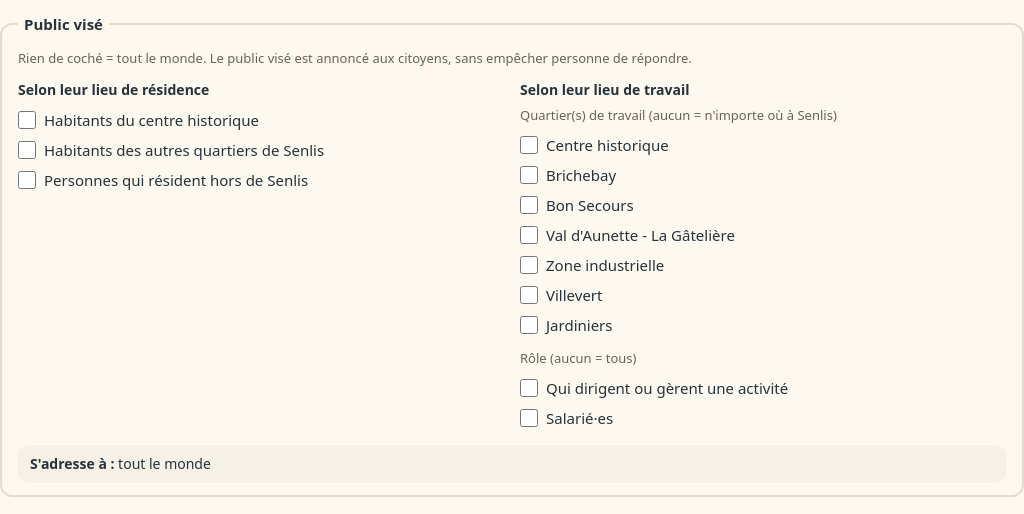
AudiencePicker › rien de coché : « tout le monde » ; la synthèse suit chaque case cochée
Click the checkbox labelled "Habitants du centre historique": (27, 120) left=18, top=111, right=36, bottom=129
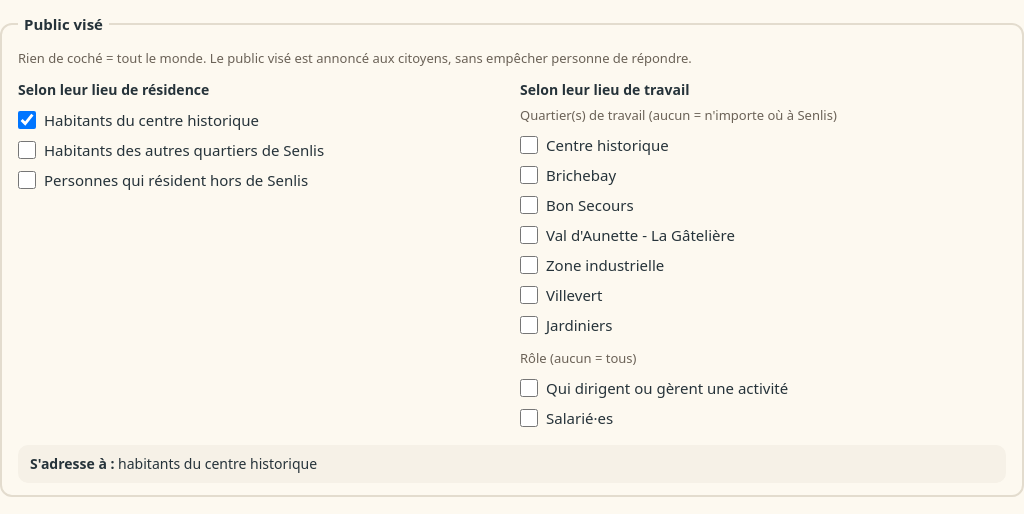
Click the checkbox labelled "Centre historique": (529, 145) left=520, top=136, right=538, bottom=154
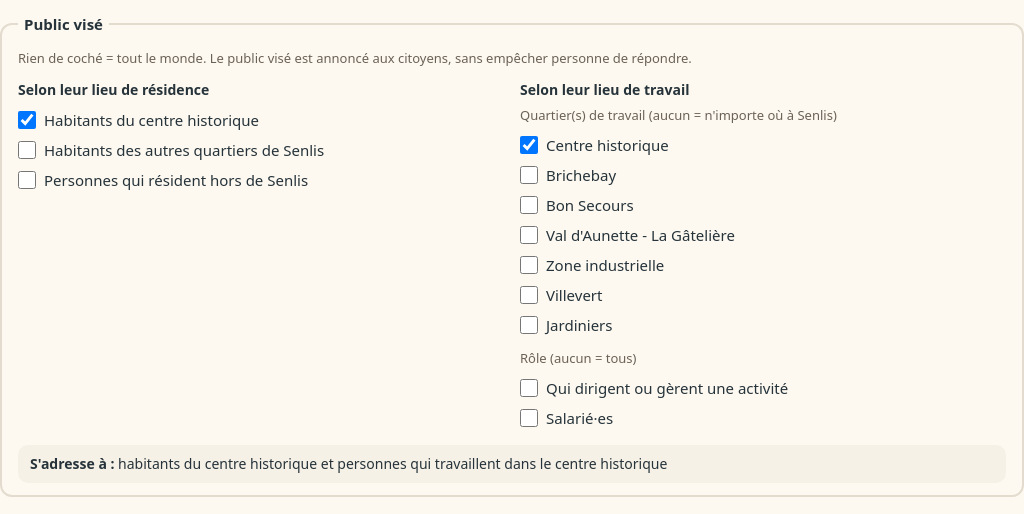
Click the checkbox labelled "Qui dirigent ou gèrent une activité": (529, 388) left=520, top=379, right=538, bottom=397
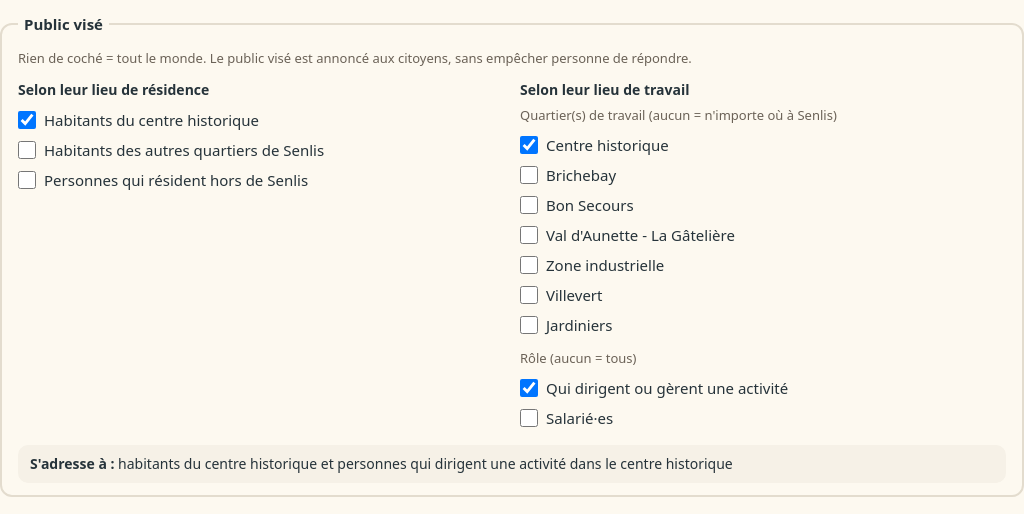
Now the text "habitants du centre historique et personnes qui dirigent une activité dans le centre historique" is shown, box left=118, top=454, right=733, bottom=473
